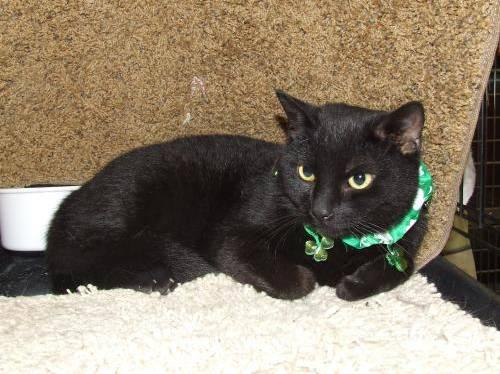cat: (46, 91, 431, 299)
